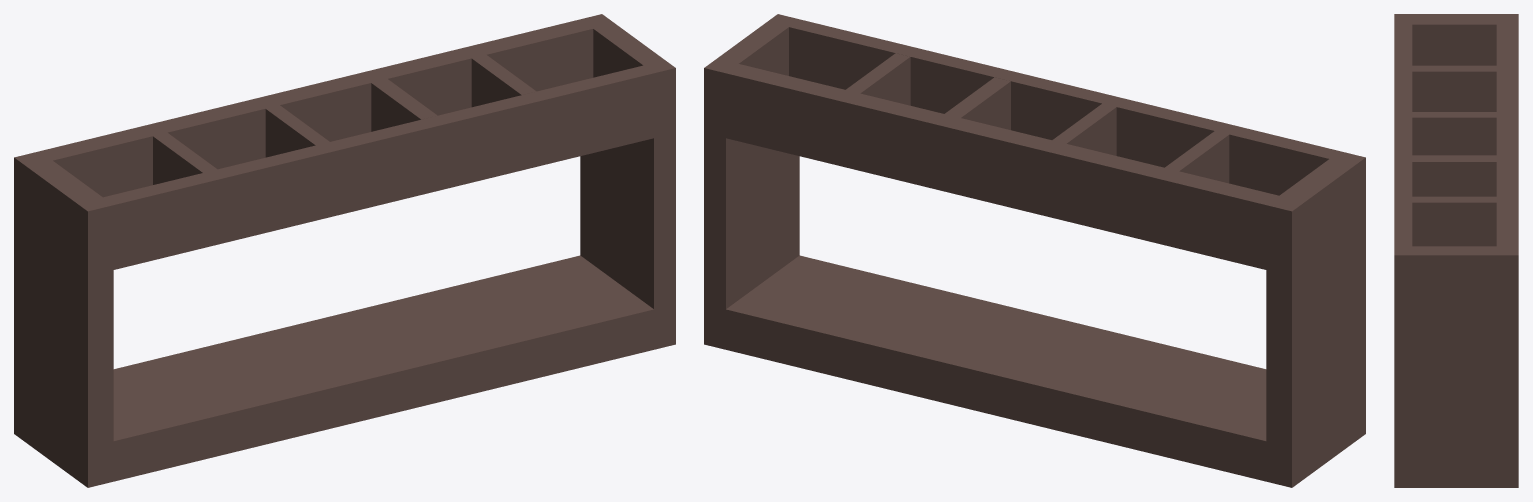
File: 5rack_Cube.fbx
The picture shows the model from 3 angles, left to right: view 1: azimuth 30°, elevation 25°; view 2: azimuth 150°, elevation 25°; view 3: azimuth 270°, elevation 25°; orthographic projection. The views are drawn at different scales.
Parts seen in each view (by area): view 1: Cube; view 2: Cube; view 3: Cube.
Part boxes in pixels (box(x1,y1,x2,y2)): Cube: box(14, 14, 675, 487); Cube: box(704, 14, 1365, 487); Cube: box(1394, 14, 1518, 487).
Bounding box in the file's own units: 261 × 117 × 56.62.
